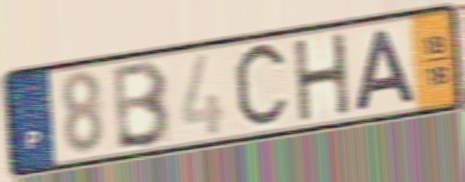4: (179, 51, 229, 138)
8: (57, 68, 106, 159)
A: (350, 26, 421, 115)
B: (112, 57, 174, 153)
C: (231, 37, 292, 136)
H: (290, 29, 354, 125)
